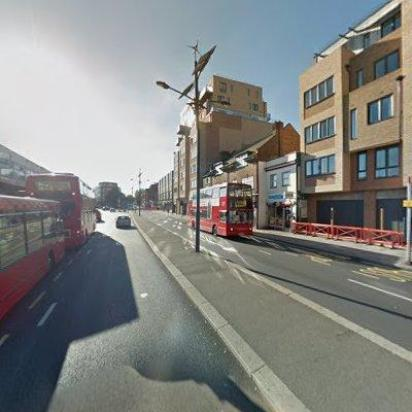moving-bus: (0, 193, 64, 326), (23, 171, 96, 251), (187, 183, 251, 239)
moving-car: (114, 215, 132, 231), (93, 207, 103, 225), (110, 207, 116, 213)
